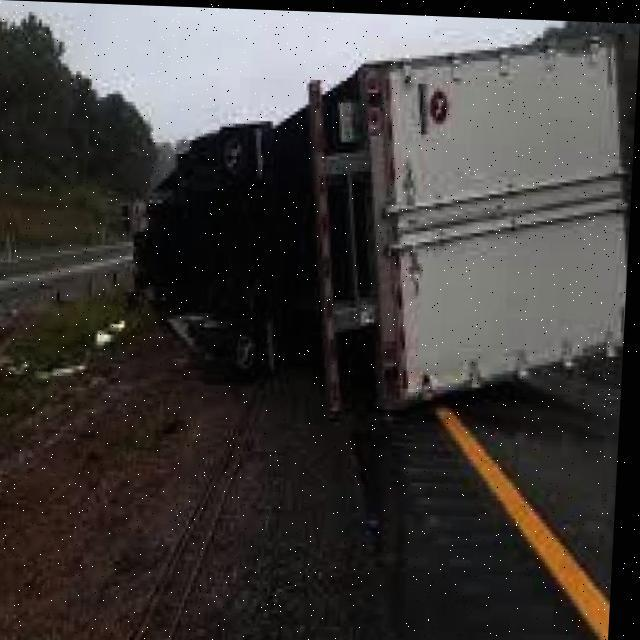single accident: (123, 35, 640, 468)
